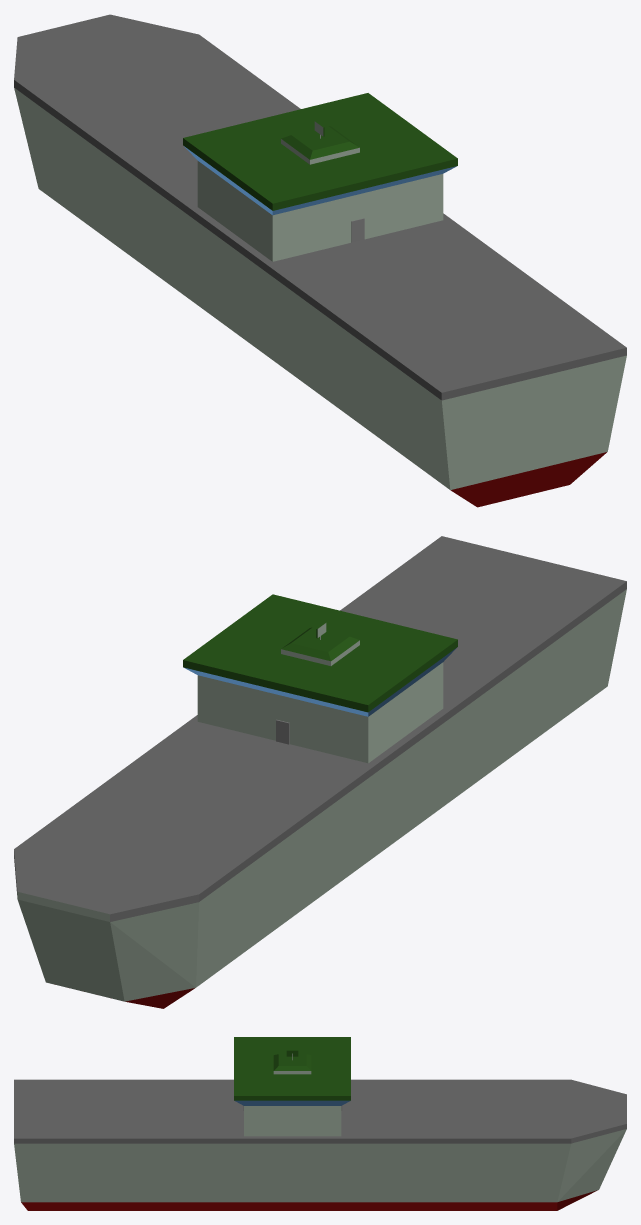
Rendered from carrier_1.uau7jiU9.glb.
3 views of the same model, one above another, from view 1: azimuth 30°, elevation 25°; view 2: azimuth 150°, elevation 25°; view 3: azimuth 270°, elevation 25° (orthographic). The views are drawn at different scales.
Visible parts, largest first — view 1: base, head, Cube; view 2: base, head, Cube; view 3: base, head, Cube.
Boxes of the visible parts, x1,y1,x2,y2 form: base: (14, 14, 626, 507); head: (183, 93, 457, 261); Cube: (281, 126, 359, 164); base: (14, 536, 626, 1008); head: (183, 594, 457, 763); Cube: (281, 627, 359, 665); base: (14, 1079, 626, 1210); head: (234, 1037, 350, 1136); Cube: (273, 1054, 311, 1074).
Size of the model in its own units: 2 by 2.31 by 8.8.
